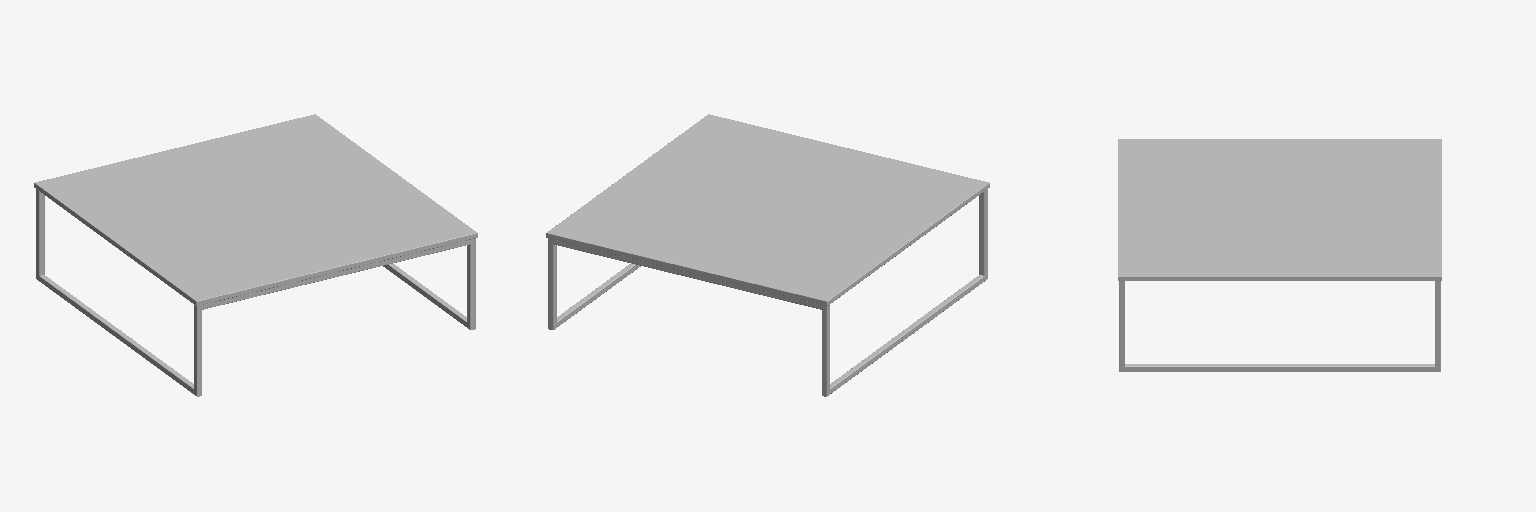
File: CoffeeTableCentralWood.obj
The picture shows the model from 3 angles: view 1: azimuth 30°, elevation 25°; view 2: azimuth 150°, elevation 25°; view 3: azimuth 270°, elevation 25°; orthographic projection.
Parts seen in each view (by area): view 1: Table, Legs; view 2: Table, Legs; view 3: Table, Legs.
Boxes of the visible parts, <box> form: Table: <box>34,114,477,305</box>; Legs: <box>36,189,475,396</box>; Table: <box>546,114,989,305</box>; Legs: <box>548,189,987,396</box>; Table: <box>1118,139,1441,280</box>; Legs: <box>1119,281,1440,371</box>.
Bounding box in the file's own units: 103 × 33.8 × 103.